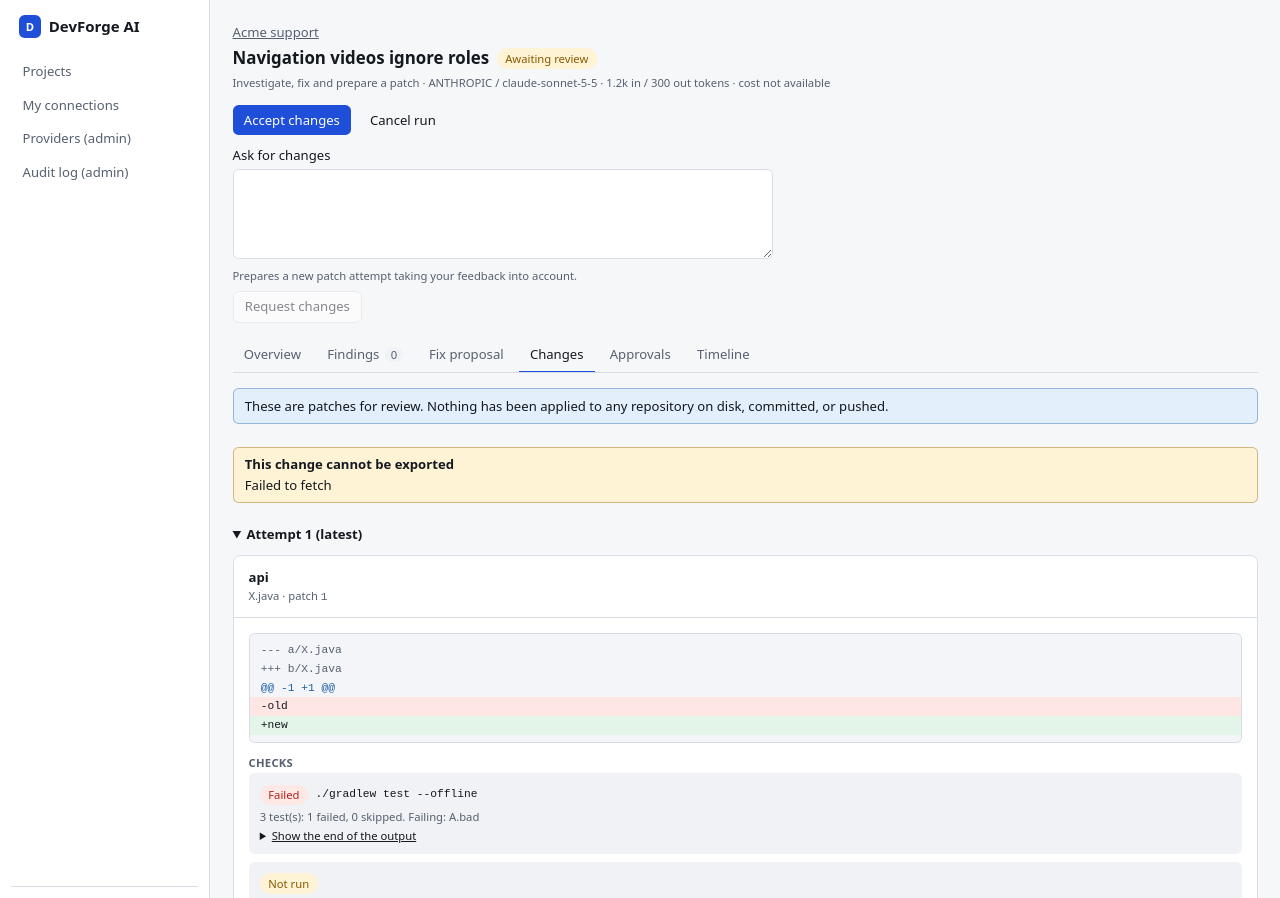
Run page › shows a real check result as counts and failing tests, keeps build output collapsed, and never presents NOT_RUN as a pass
Check: the text "3 test(s): 1 failed, 0 skipped. Failing: A.bad" is shown, box 260,809 -> 479,824
Check: the text "Failed" is shown, box 260,784 -> 308,805
What coordinates should you click on to do the following:
click the heading "Show the end of the output"
I would click on:
 (344, 835)
Its box is 272,828 -> 416,843.
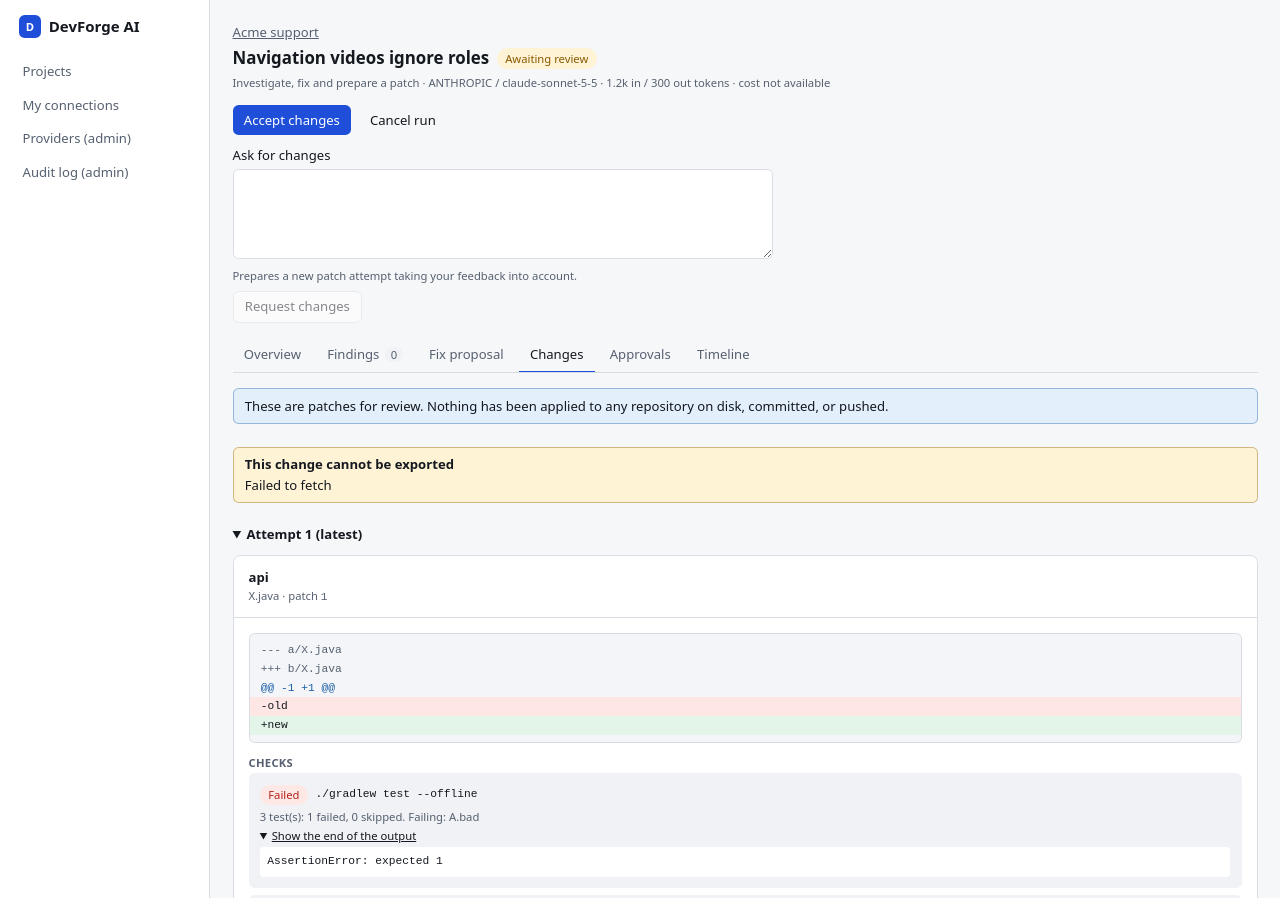
Check: the text "AssertionError: expected 1" is shown, box 260,846 -> 1230,876
